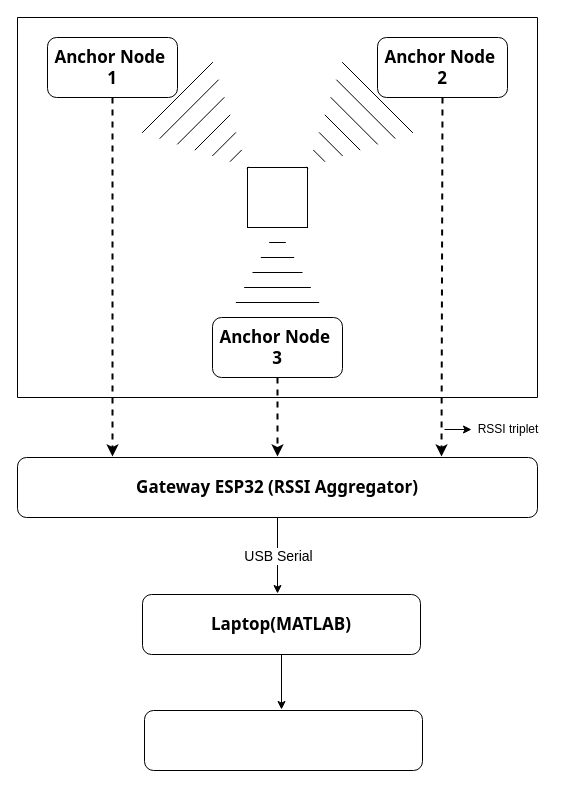
The diagram is 563 pixels wide and 788 high, and some of its shapes have lost their labels. Here are the shapes that lost their labels. From the top down, the centre of each, then its label:
the point at 277,197: Mobile Node
the point at 283,740: User interface (APP)
